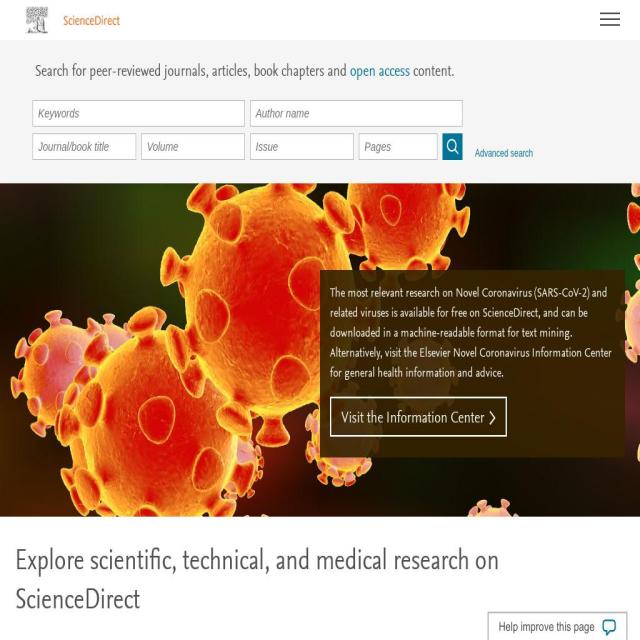button: (330, 396, 508, 436), (486, 611, 627, 640), (20, 7, 121, 33), (15, 636, 200, 640), (384, 636, 564, 640), (442, 133, 462, 160), (284, 636, 384, 640), (199, 636, 284, 640)
field: (33, 100, 245, 127), (250, 100, 462, 127), (32, 133, 136, 160), (141, 133, 245, 160), (250, 133, 354, 160), (358, 133, 438, 160)
heading: (15, 543, 625, 622), (35, 63, 347, 80), (350, 63, 410, 82), (410, 63, 454, 80)
iframe: (486, 611, 627, 640)
image: (20, 7, 54, 33), (447, 136, 459, 156), (489, 408, 496, 429)
text: (121, 0, 584, 53), (330, 284, 615, 344), (330, 344, 615, 384), (342, 410, 484, 428), (475, 147, 533, 161)
